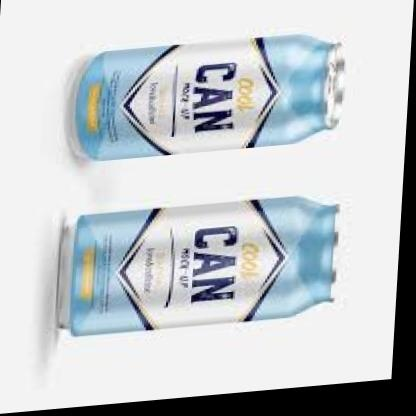trash: (70, 197, 336, 334), (74, 34, 343, 159)
